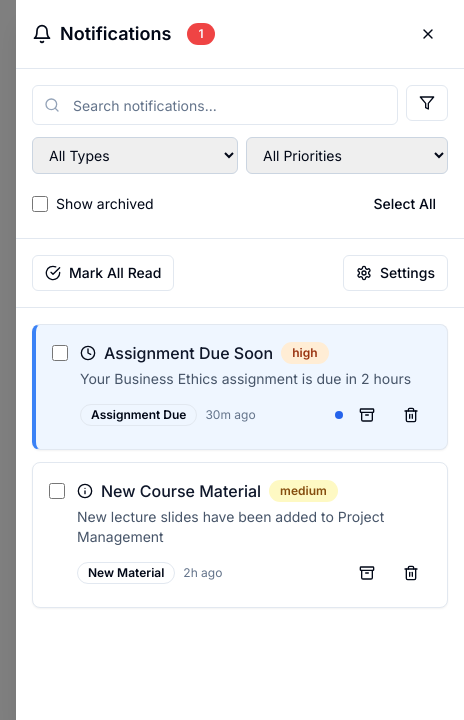
Test: NotificationCenter › should filter notifications by type
Select "Assignment Due" in the 1st dropdown showing "All Types" at (135, 156), box x1=32 y1=137 x2=238 y2=174
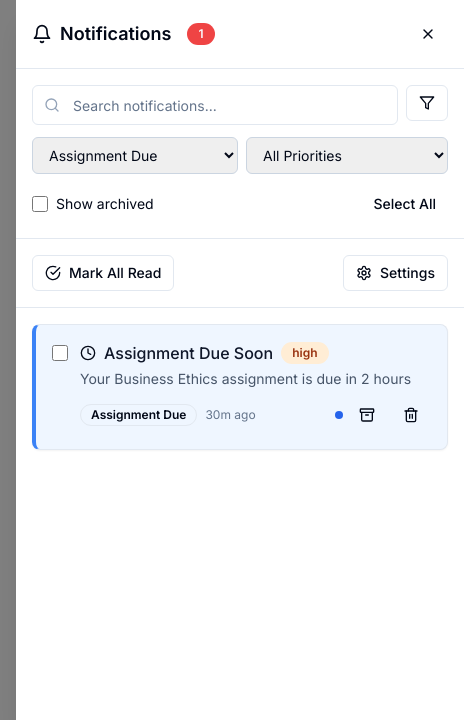
Check: the heading "Assignment Due Soon" is shown, box x1=104 y1=341 x2=273 y2=365
Check: the heading "New Course Material" is gone
